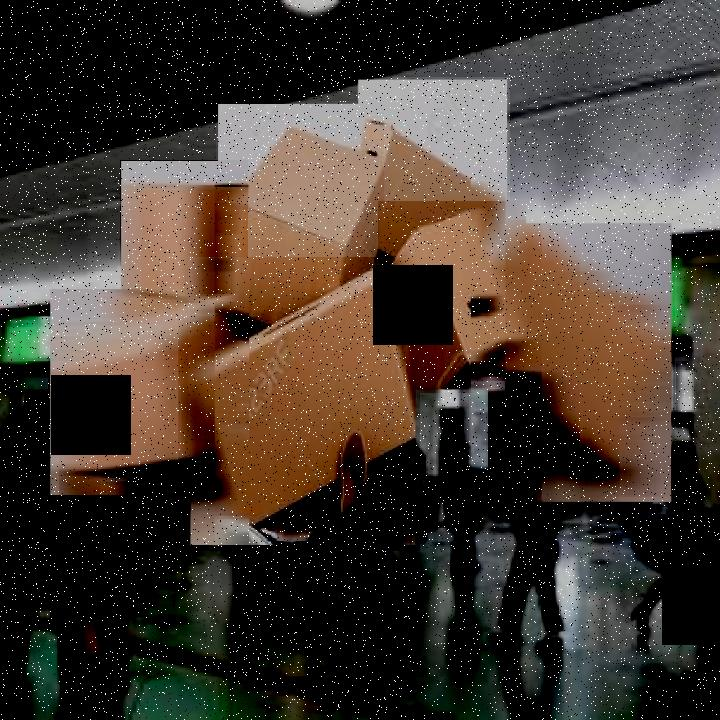box: (188, 257, 420, 551), (486, 220, 675, 507), (48, 286, 236, 500), (217, 101, 384, 335), (357, 77, 510, 276), (378, 201, 531, 393), (120, 160, 248, 299)
